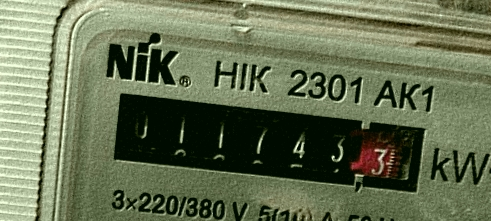0: (129, 105, 152, 143)
1: (212, 115, 230, 150), (175, 111, 188, 145)
3: (325, 129, 347, 166), (368, 145, 389, 180)
4: (288, 125, 308, 161)
7: (249, 121, 271, 156)
screen: (97, 80, 439, 207)
